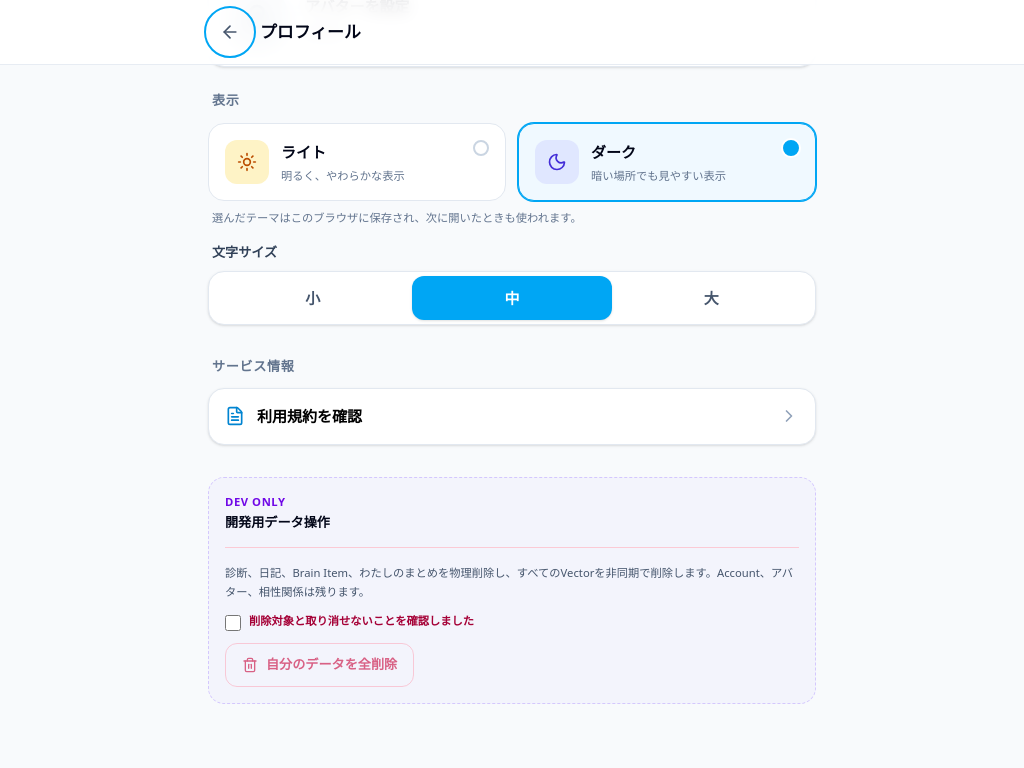
ProfileSettingsScreen › 開発用データ操作を最下部に表示し、確認後に全削除する
(page scrolled)
Expected: the button "自分のデータを全削除" is disabled, [225, 643, 414, 687]
Click the checkbox labelled "削除対象と取り消せないことを確認しました" at (233, 623), box [225, 615, 241, 631]
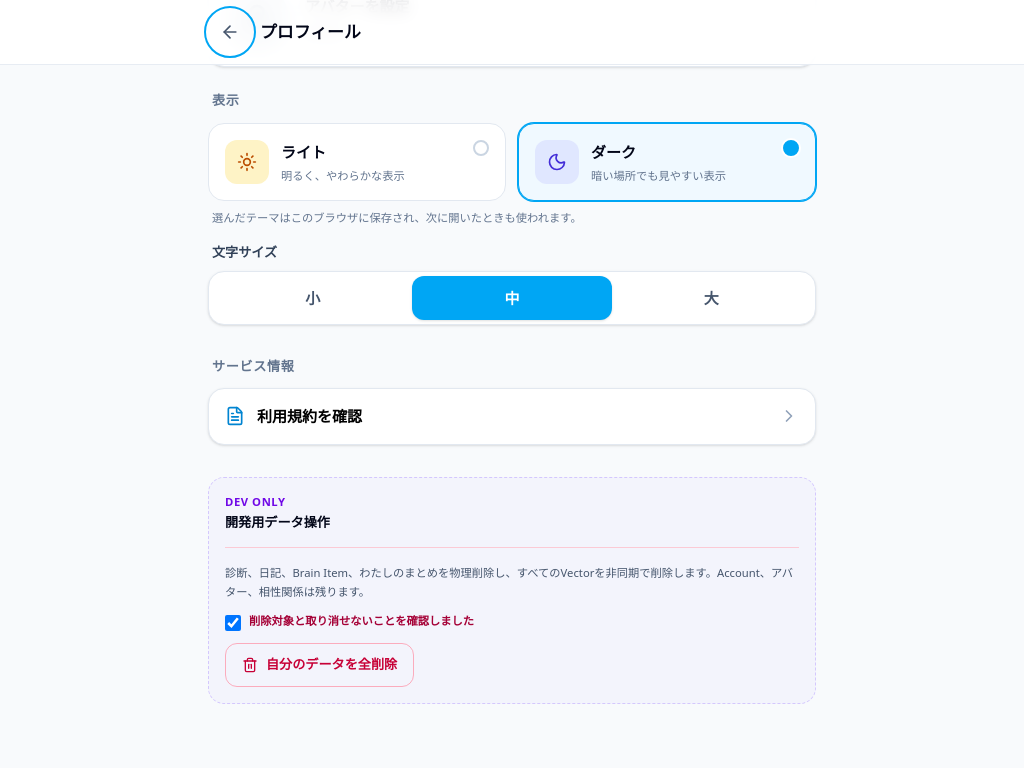
Click the button "自分のデータを全削除" at (320, 665), box [225, 643, 414, 687]
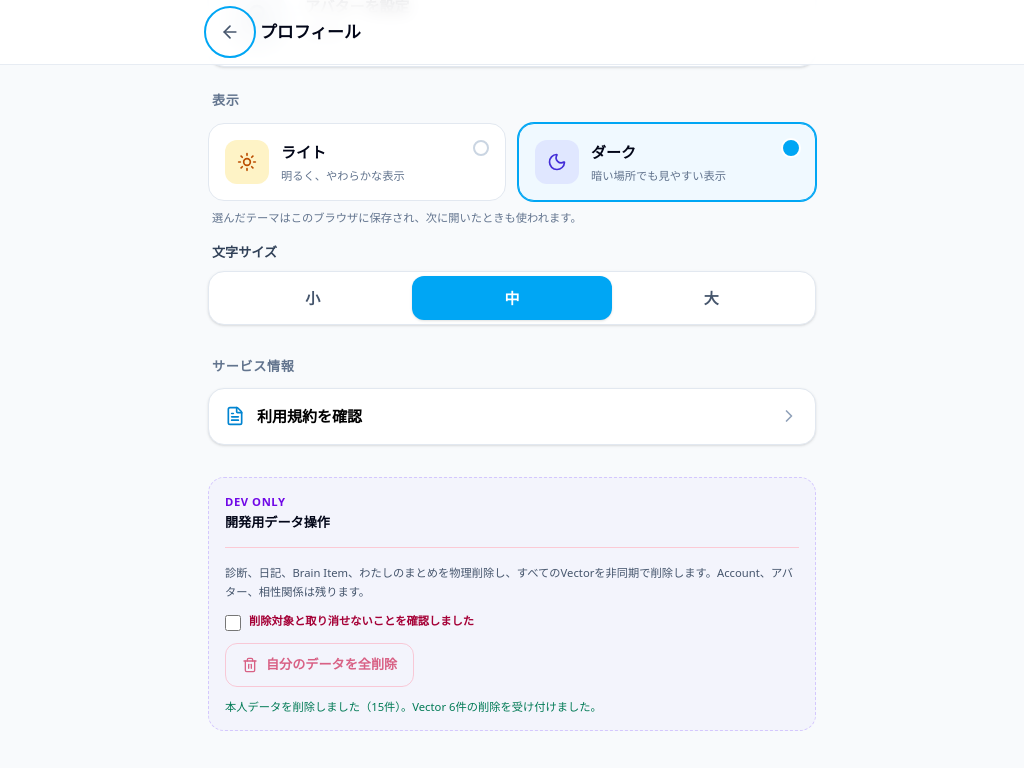
Expected: the text "本人データを削除しました（15件）。Vector 6件の削除を受け付けました。" is shown, [225, 699, 602, 714]
